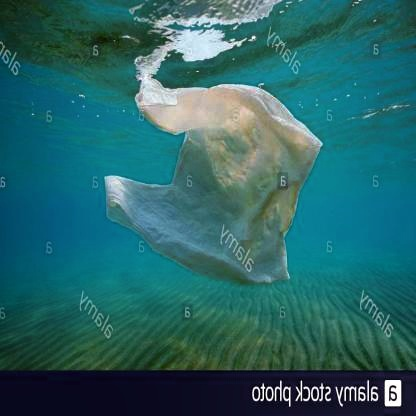pbag: (104, 74, 324, 287)
